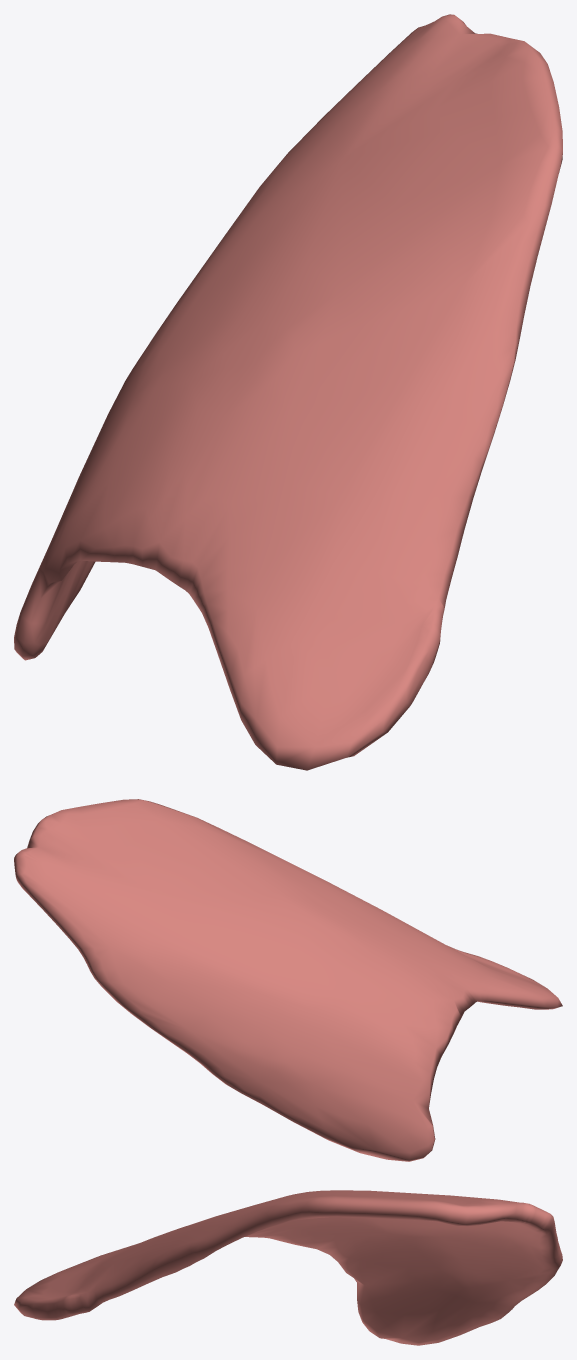
The picture shows the model from 3 angles, top to bottom: view 1: azimuth 30°, elevation 25°; view 2: azimuth 150°, elevation 25°; view 3: azimuth 270°, elevation 25°; orthographic projection. The views are drawn at different scales.
Visible parts, largest first — view 1: ZA_71606fcb98cc33f0; view 2: ZA_71606fcb98cc33f0; view 3: ZA_71606fcb98cc33f0.
Part boxes in pixels (left/top/right/bottom): ZA_71606fcb98cc33f0: left=14, top=14, right=562, bottom=770; ZA_71606fcb98cc33f0: left=14, top=799, right=562, bottom=1161; ZA_71606fcb98cc33f0: left=14, top=1190, right=562, bottom=1345.
Bounding box in the file's own units: 0.0112 × 0.0084 × 0.013.
